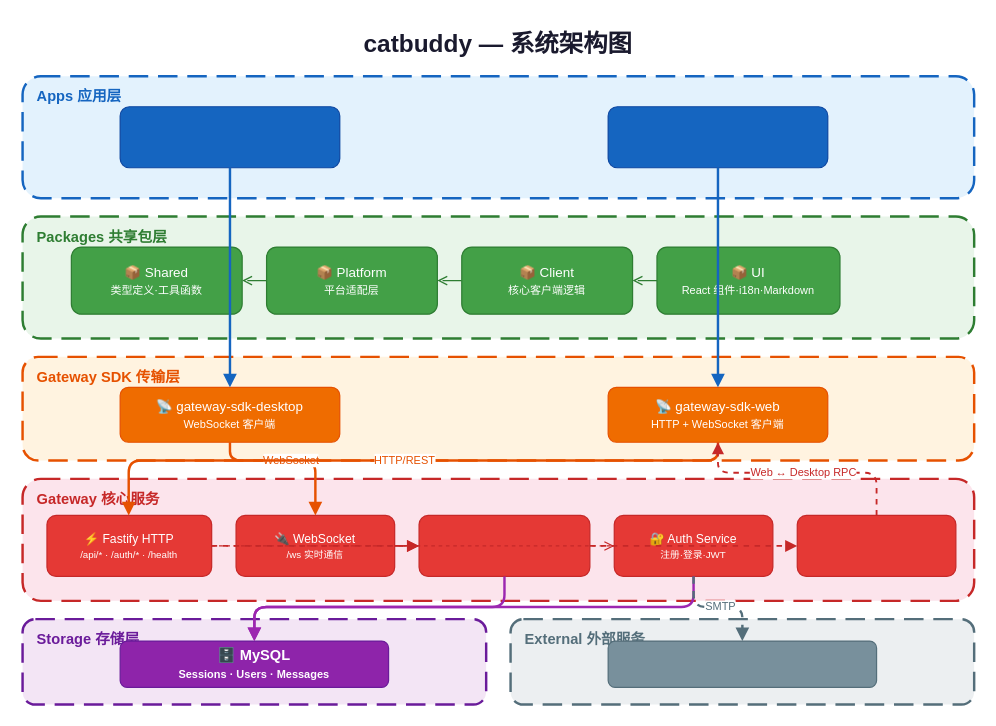
The diagram is 996 pixels wide and 726 high, and some of its shapes have lost their labels. Each missing label, with the centre of its shape:
"✉️ SMTP Server 邮件验证码发送" belongs at (742,663).
"🌐 Web (Vite + React)" belongs at (717,137).
"📋 Session Manager 会话管理·路由转发" belongs at (504,545).
"🔄 RPC Broker Web ↔ Desktop 代理" belongs at (876,545).
"🖥️ Desktop (Electron)" belongs at (229,137).
